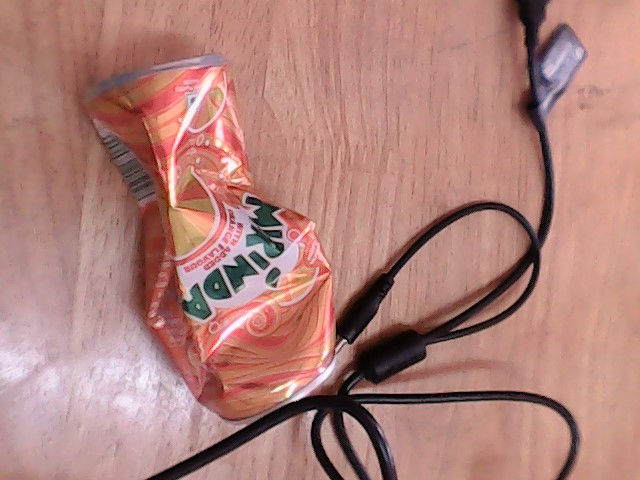Metal: (86, 88, 335, 377)
